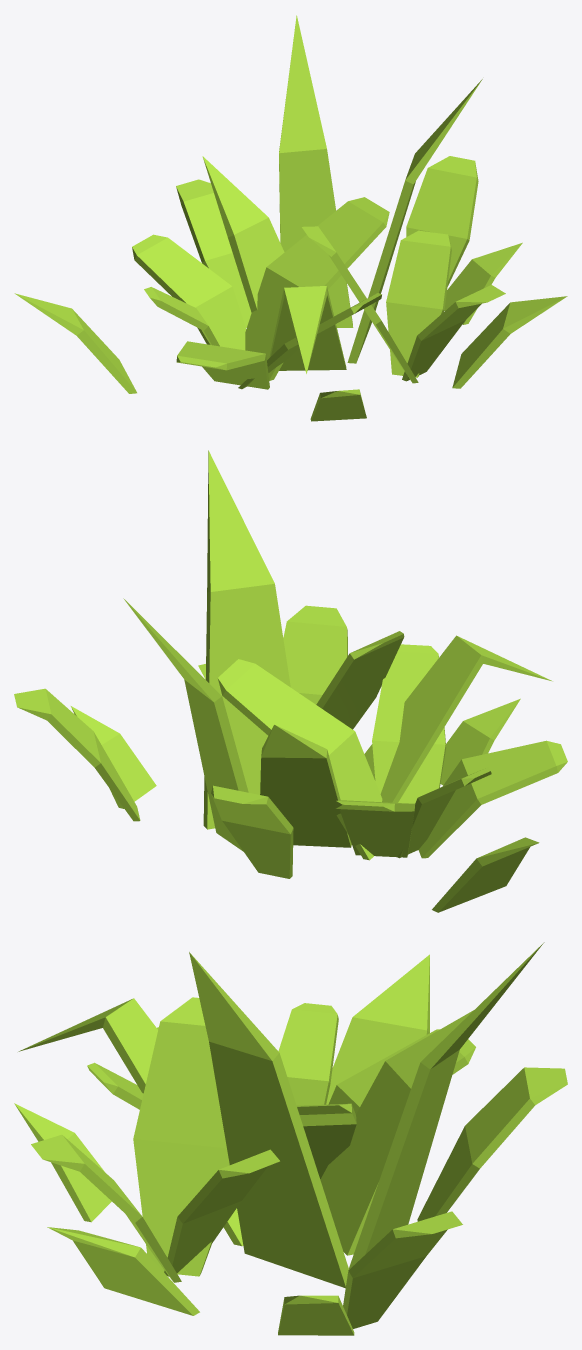
The model's file is grass.fbx.
The picture shows the model from 3 angles, top to bottom: view 1: azimuth 30°, elevation 25°; view 2: azimuth 150°, elevation 25°; view 3: azimuth 270°, elevation 25°; orthographic projection. The views are drawn at different scales.
Visible parts, largest first — view 1: grass; view 2: grass; view 3: grass.
Part boxes in pixels (x1=…): grass: x1=14, y1=15, x2=567, y2=421; grass: x1=14, y1=450, x2=567, y2=912; grass: x1=14, y1=942, x2=567, y2=1335.
Bounding box in the file's own units: 182 × 103 × 139.
